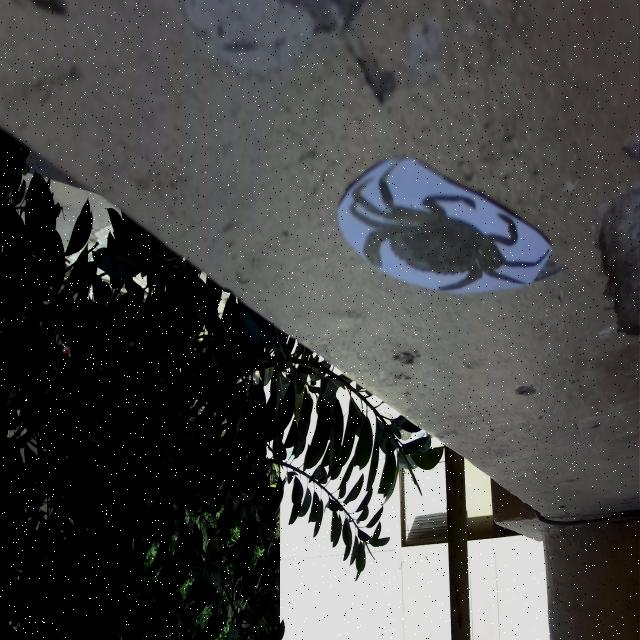European_Green_Crab: (343, 141, 554, 331)
